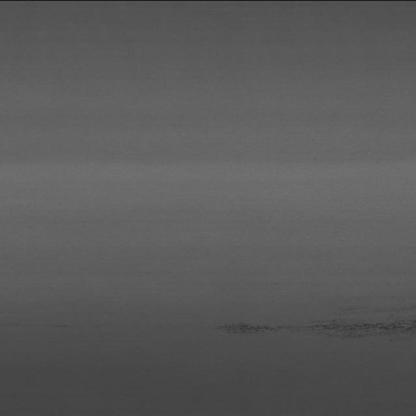inclusion: (209, 302, 410, 352)
